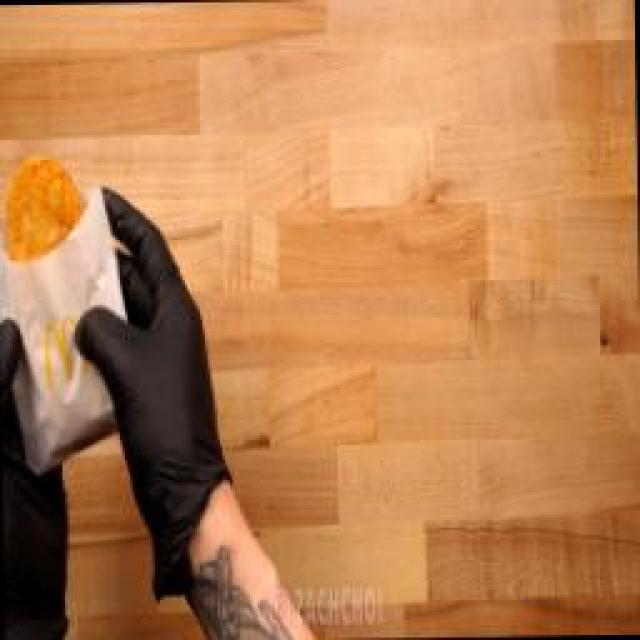Hashbrown: (0, 133, 108, 288)
